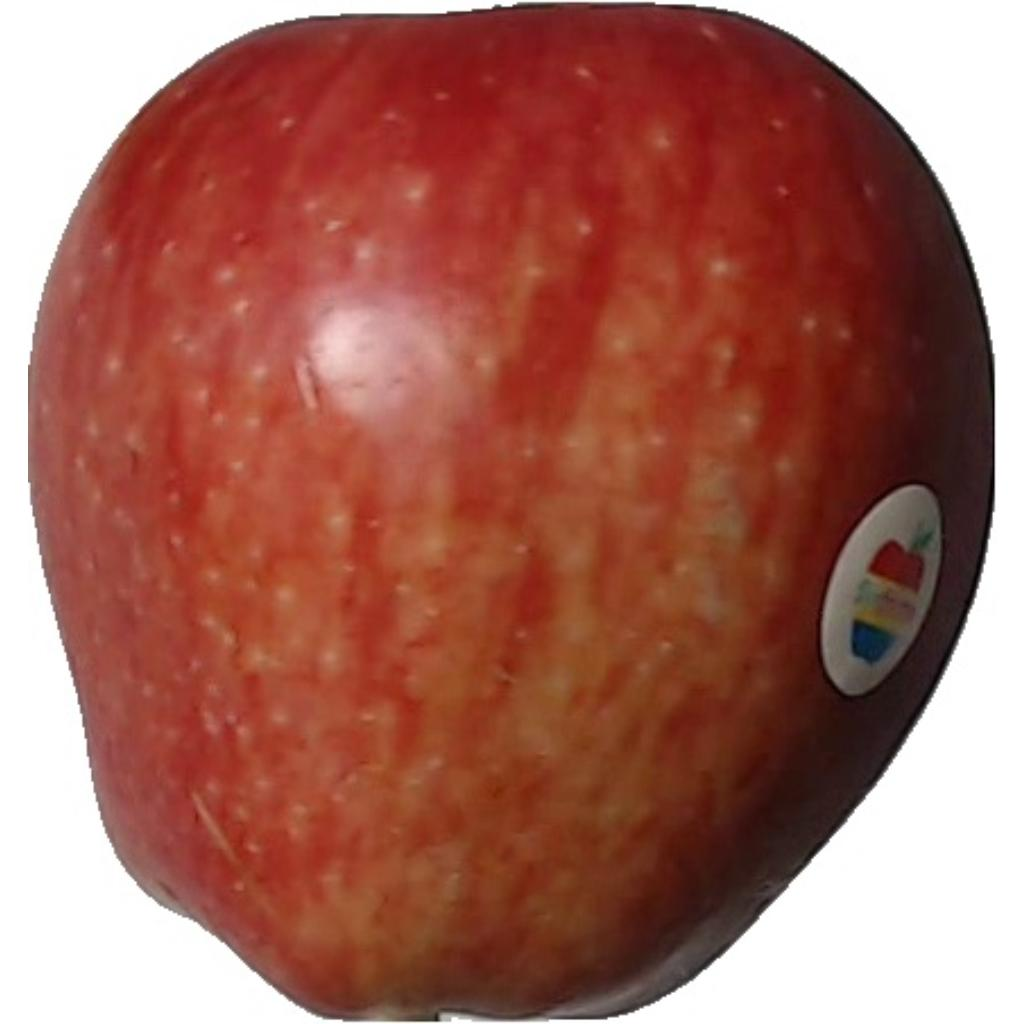apple: (27, 5, 997, 1024)
